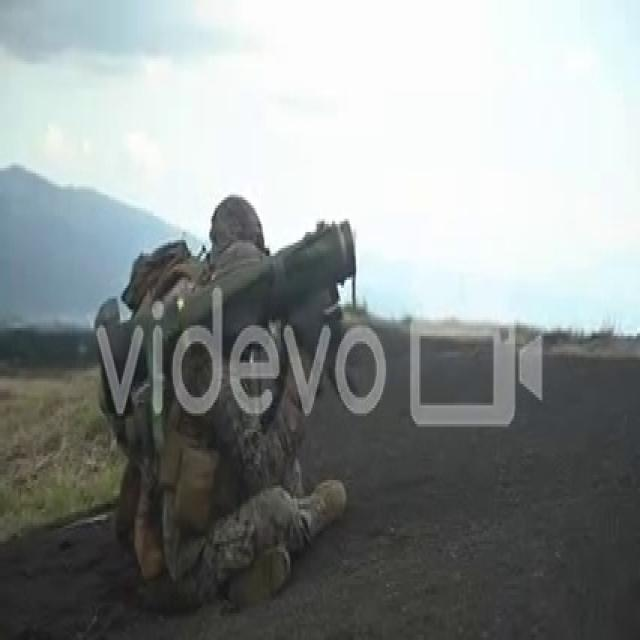bazooka: (96, 211, 363, 431)
